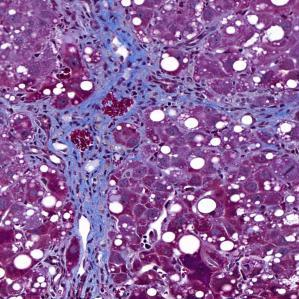fibrosis: (56, 71, 164, 188), (88, 218, 135, 290)
